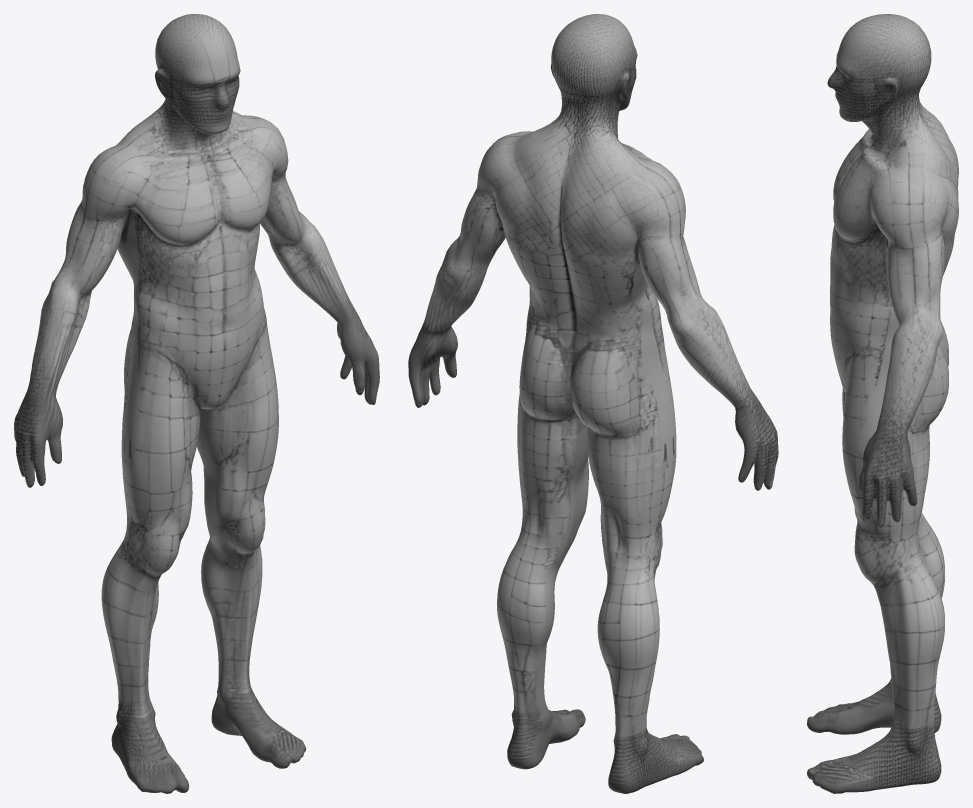
The model's file is human.glb.
3 renders of one model, left to right at view 1: azimuth 30°, elevation 25°; view 2: azimuth 150°, elevation 25°; view 3: azimuth 270°, elevation 25°, orthographic.
Visible parts, largest first — view 1: Object_2; view 2: Object_2; view 3: Object_2.
Part boxes in pixels (bbox=[...]): Object_2: bbox=[14, 14, 379, 793]; Object_2: bbox=[408, 14, 778, 793]; Object_2: bbox=[807, 14, 958, 793].
Size of the model in its own units: 0.9618 by 1.91 by 0.3559.
1 material, 1 textured.
